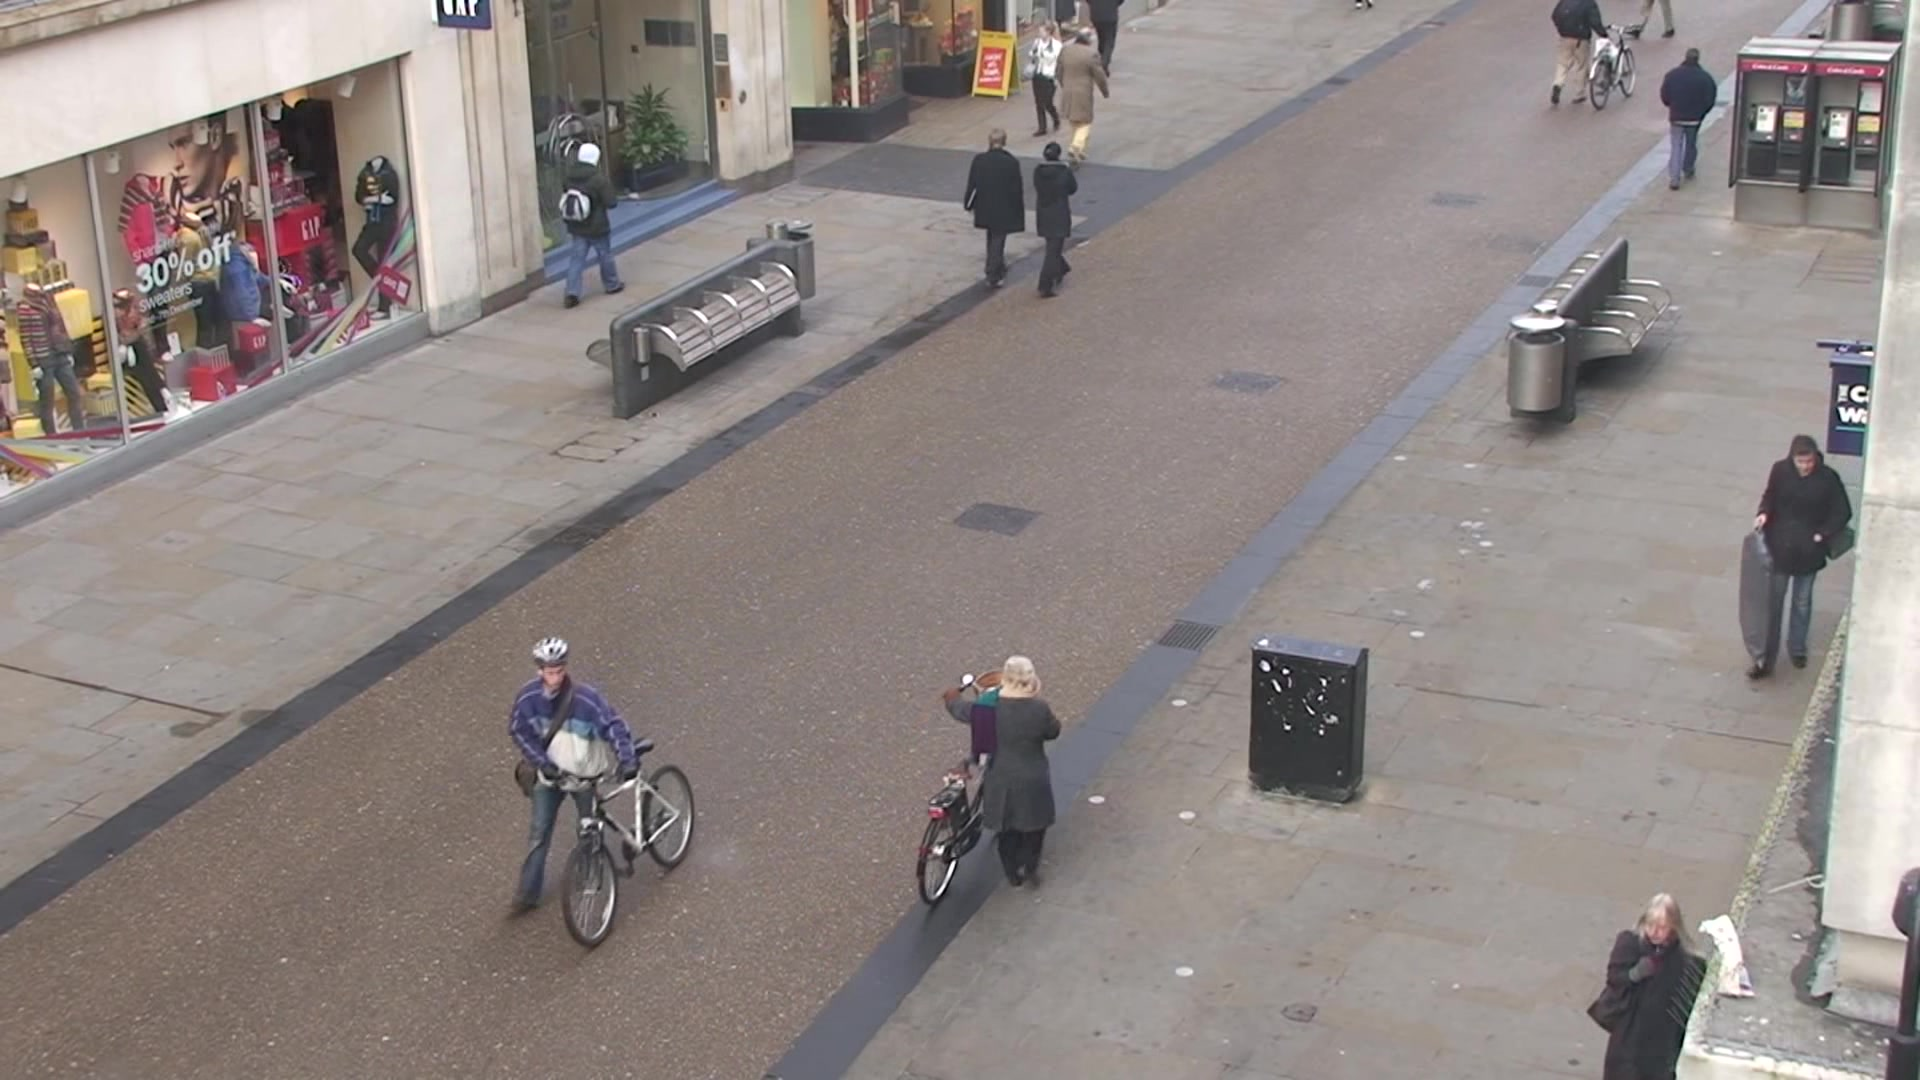person: (500, 639, 641, 920), (941, 654, 1061, 895), (1745, 435, 1854, 683), (560, 142, 624, 310), (963, 129, 1027, 289), (1659, 49, 1719, 193), (1055, 26, 1111, 162), (1033, 142, 1080, 301)
